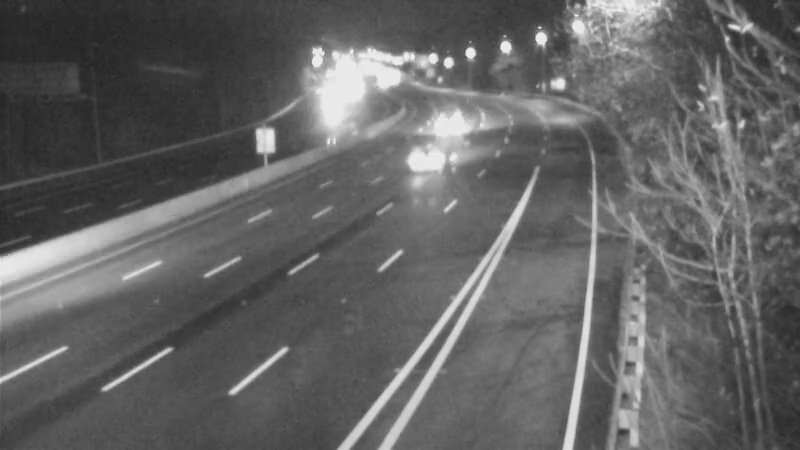vehicle: (384, 120, 464, 200), (414, 99, 464, 149)
